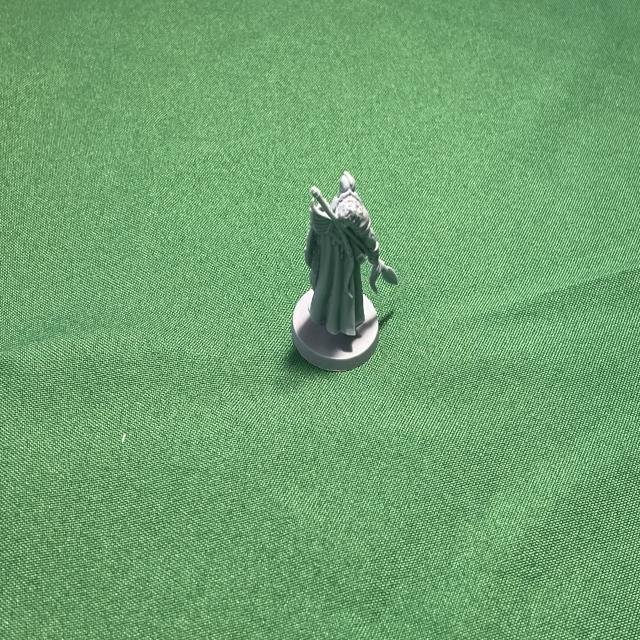isis_follower: (276, 162, 399, 380)
